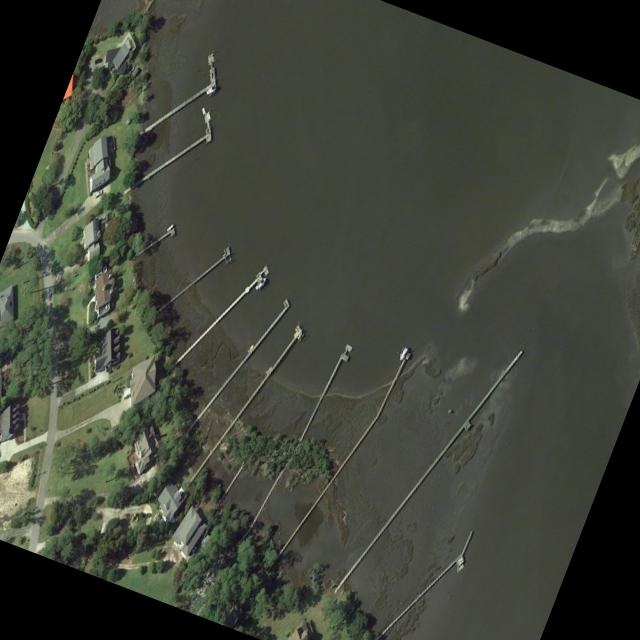ship: (254, 276, 265, 292), (397, 345, 407, 362), (204, 84, 215, 96), (165, 223, 172, 232), (458, 563, 463, 571)
small-vehicle: (188, 545, 196, 558), (94, 188, 102, 198), (77, 258, 84, 268)
